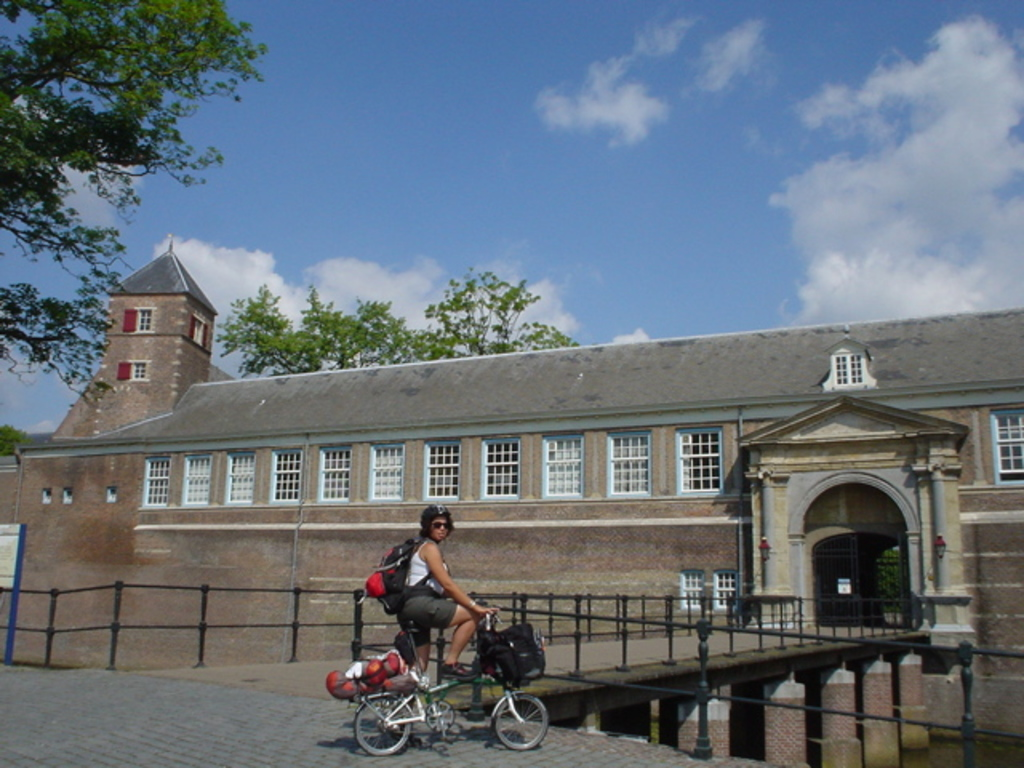Bike_away: (330, 610, 556, 756)
